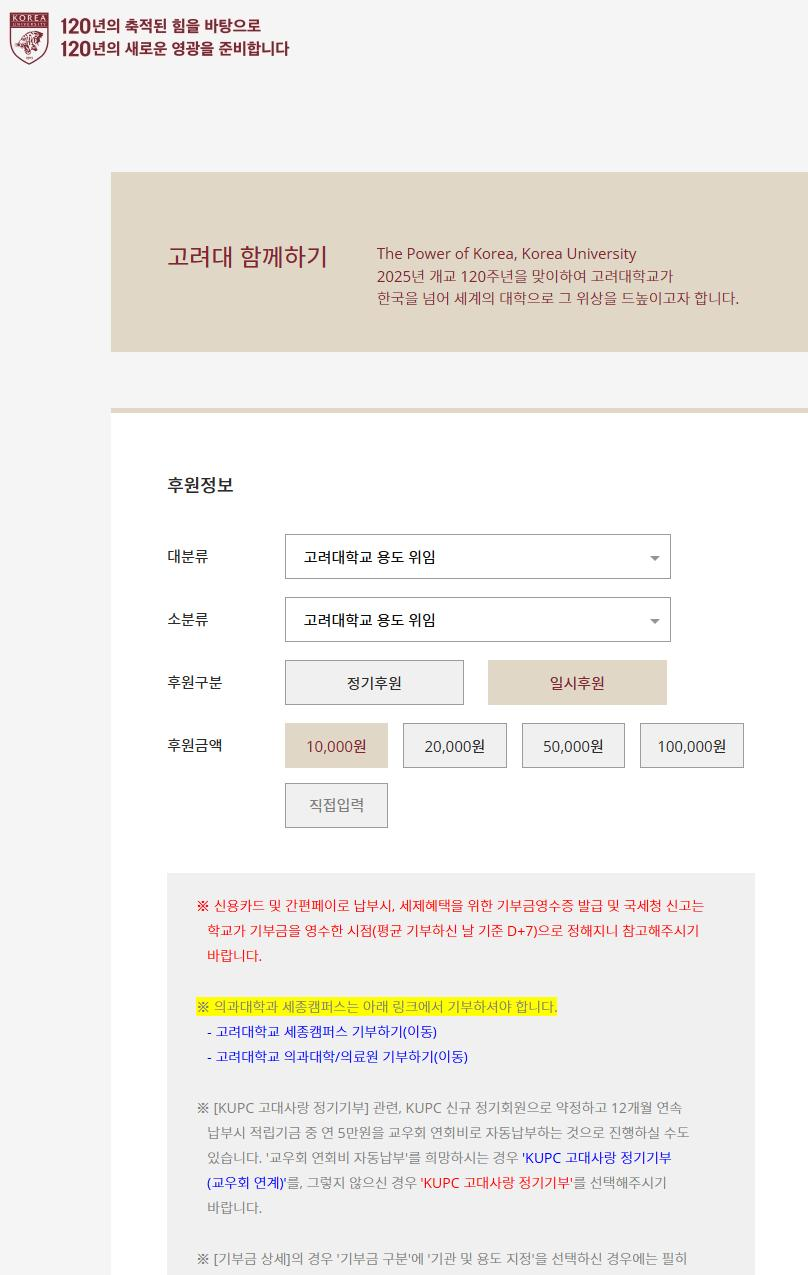button: (490, 664, 664, 708), (282, 662, 456, 702), (520, 728, 630, 764), (290, 728, 384, 764), (404, 734, 506, 766), (292, 784, 372, 824), (654, 724, 742, 758)
checkbox: (292, 528, 662, 580), (284, 598, 678, 636)
